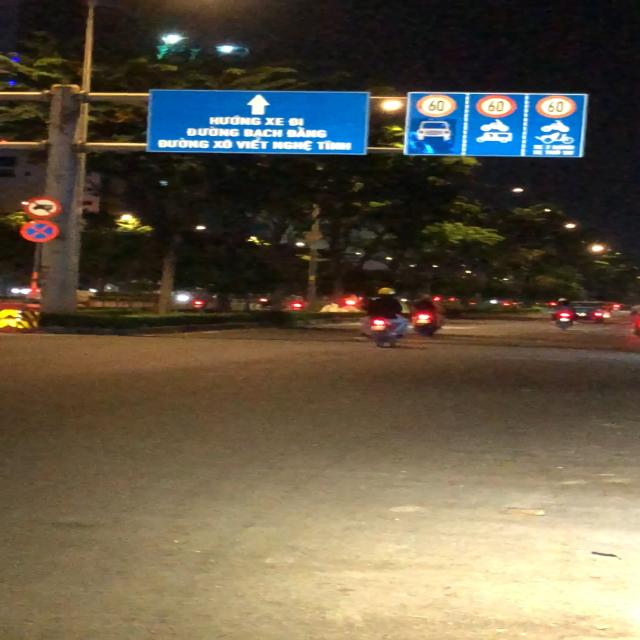Bien bao cam dung xe va do xe: (19, 220, 62, 244)
Bien bao cam xe oto tai: (22, 196, 65, 220)
Bien bao toc do toi da cho phep: (474, 93, 520, 120), (534, 94, 578, 120), (416, 92, 457, 119)
